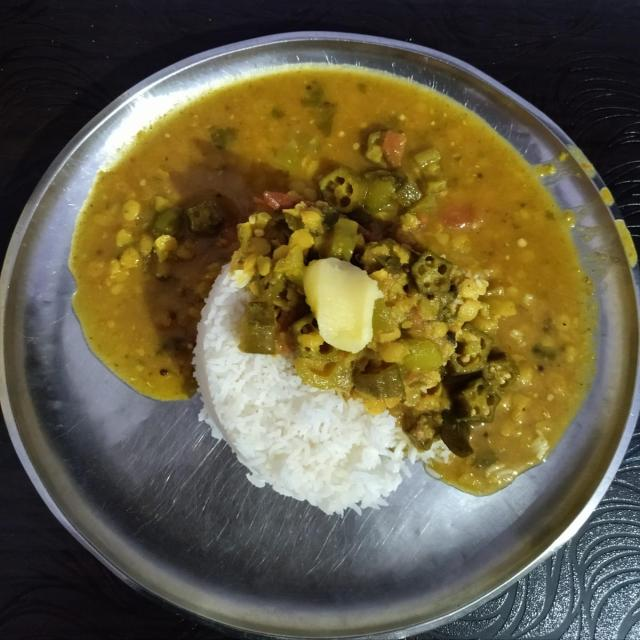veg meals: (56, 53, 614, 530)
